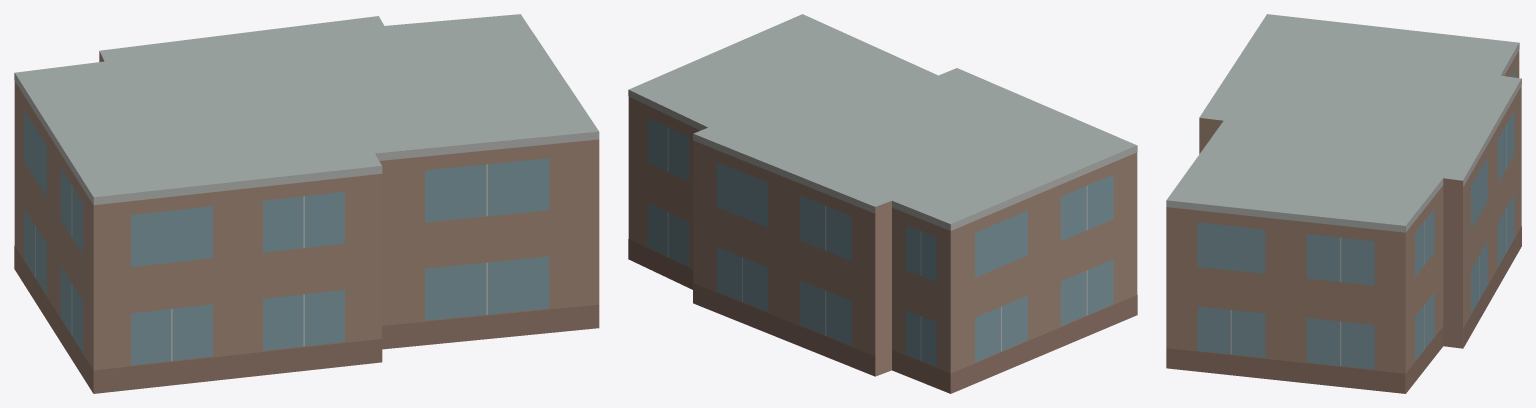
Rendered from survey-upis-32999086.glb.
3 views of the same model, side by side, from view 1: azimuth 30°, elevation 25°; view 2: azimuth 150°, elevation 25°; view 3: azimuth 270°, elevation 25° (orthographic). The views are drawn at different scales.
Parts seen in each view (by area): view 1: survey-upis-32999086.tmp; view 2: survey-upis-32999086.tmp; view 3: survey-upis-32999086.tmp.
Boxes of the visible parts, <box> form: survey-upis-32999086.tmp: <box>14,14,599,393</box>; survey-upis-32999086.tmp: <box>628,14,1137,393</box>; survey-upis-32999086.tmp: <box>1166,14,1521,393</box>.
Size of the model in its own units: 16.52 by 6.1 by 11.71.
